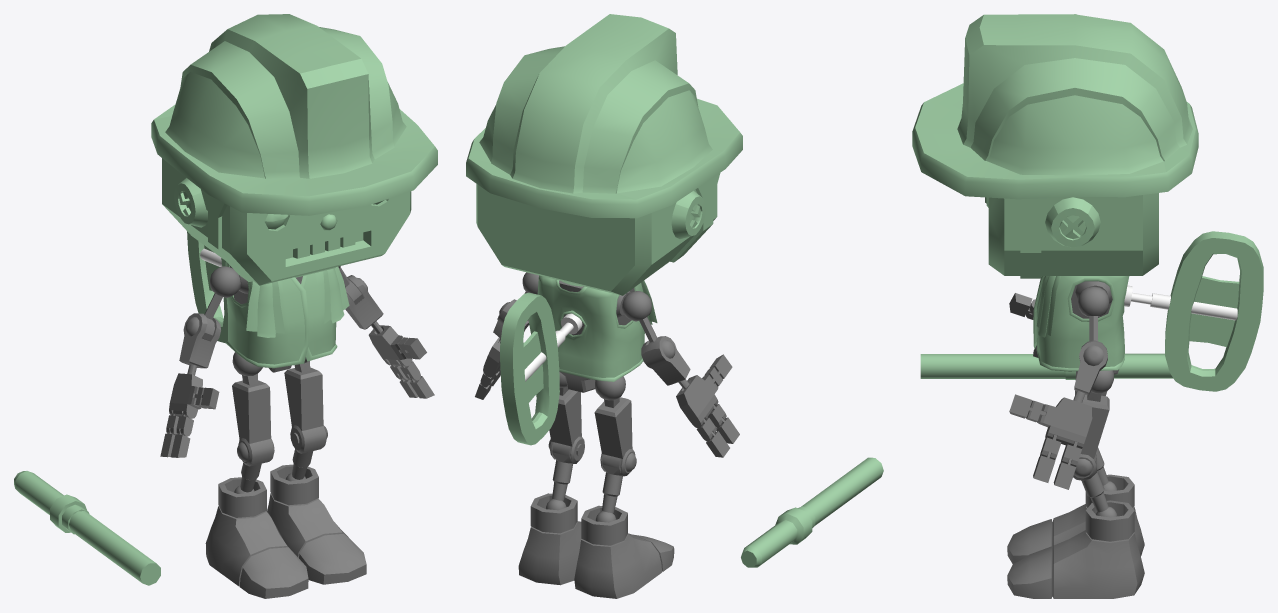
Rendered from CH_npc_construction01_noRig.fbx.
The picture shows the model from 3 angles, left to right: view 1: azimuth 30°, elevation 25°; view 2: azimuth 150°, elevation 25°; view 3: azimuth 270°, elevation 25°; orthographic projection. The views are drawn at different scales.
Parts seen in each view (by area): view 1: hat, body, head_01, clothes, glowstick, towel, spring, ear; view 2: hat, body, head_01, spring, clothes, glowstick, ear; view 3: hat, body, spring, head_01, clothes, glowstick, ear, towel.
Boxes of the visible parts, <box> form: hat: <box>151,14,437,281</box>; body: <box>160,248,434,598</box>; head_01: <box>162,158,411,285</box>; clothes: <box>225,261,337,368</box>; glowstick: <box>14,471,160,585</box>; towel: <box>246,266,349,337</box>; spring: <box>187,231,227,343</box>; ear: <box>174,178,207,227</box>; hat: <box>466,14,742,262</box>; body: <box>475,272,739,598</box>; head_01: <box>476,184,717,295</box>; spring: <box>500,292,559,445</box>; clothes: <box>537,275,644,381</box>; glowstick: <box>741,457,883,567</box>; ear: <box>671,190,706,238</box>; hat: <box>912,14,1198,278</box>; body: <box>1007,281,1237,598</box>; spring: <box>1165,231,1263,391</box>; head_01: <box>985,193,1158,275</box>; clothes: <box>1033,276,1129,371</box>; glowstick: <box>920,353,1173,379</box>; ear: <box>1045,197,1100,247</box>; towel: <box>1036,276,1060,337</box>.
Bounding box in the file's own units: 72.67 × 105 × 61.4.
